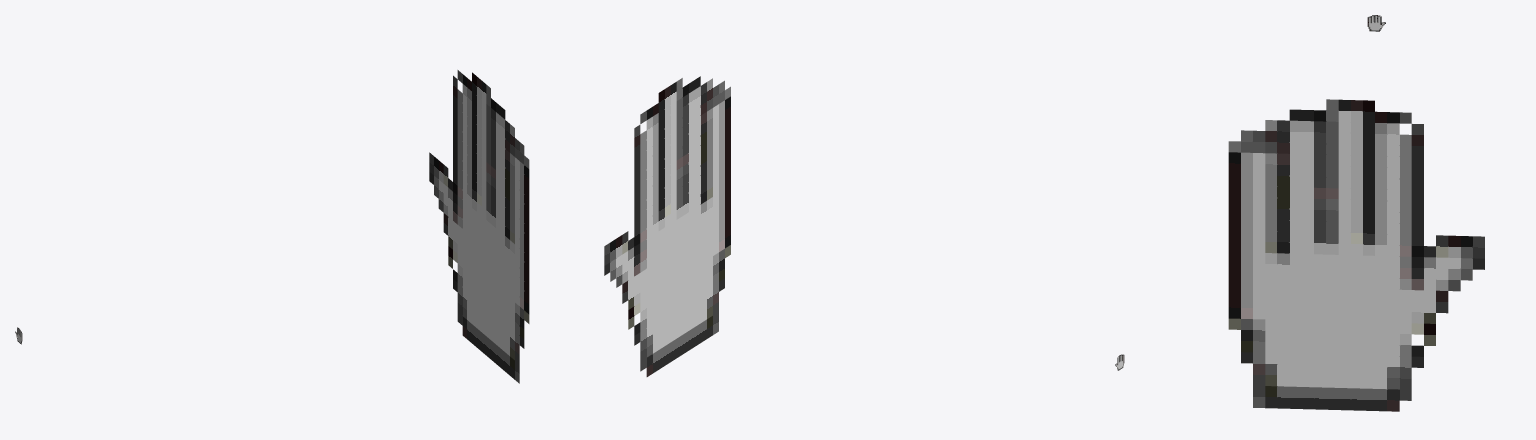
Rendered from Main Camera.fbx.
3 views of the same model, side by side, from view 1: azimuth 30°, elevation 25°; view 2: azimuth 150°, elevation 25°; view 3: azimuth 270°, elevation 25° (orthographic). The views are drawn at different scales.
Visible parts, largest first — view 1: Plane; view 2: Plane; view 3: Plane.
Part boxes in pixels (x1,y1,x2,y2): Plane: (429, 70, 529, 383); Plane: (604, 76, 730, 376); Plane: (1228, 99, 1484, 411).
Bounding box in the file's own units: 18.62 × 11.24 × 11.22.
Materials: 1 (1 with a texture image).
